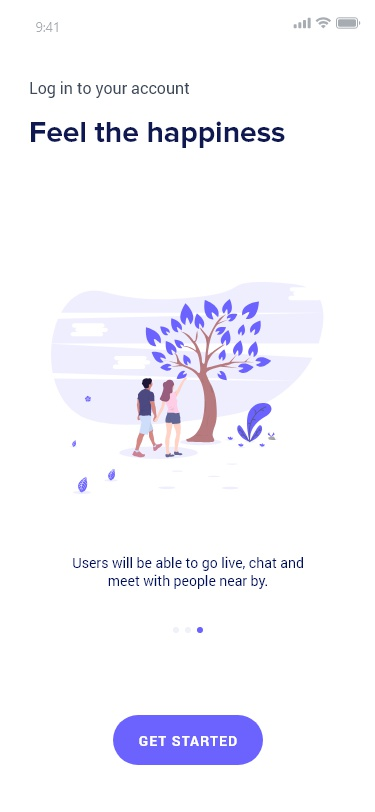Image: (51, 282, 323, 492)
PageIndicator: (172, 626, 205, 635)
Text: (72, 556, 304, 591), (31, 122, 285, 150), (30, 81, 190, 99)
TextButton: (113, 715, 264, 765)
UpperTaskBar: (36, 17, 361, 34)
